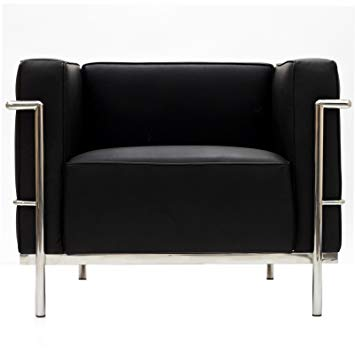chairs: (8, 54, 355, 325)
